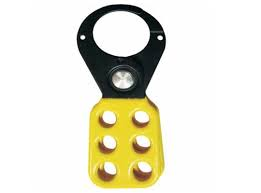hasp: (77, 3, 168, 191)
